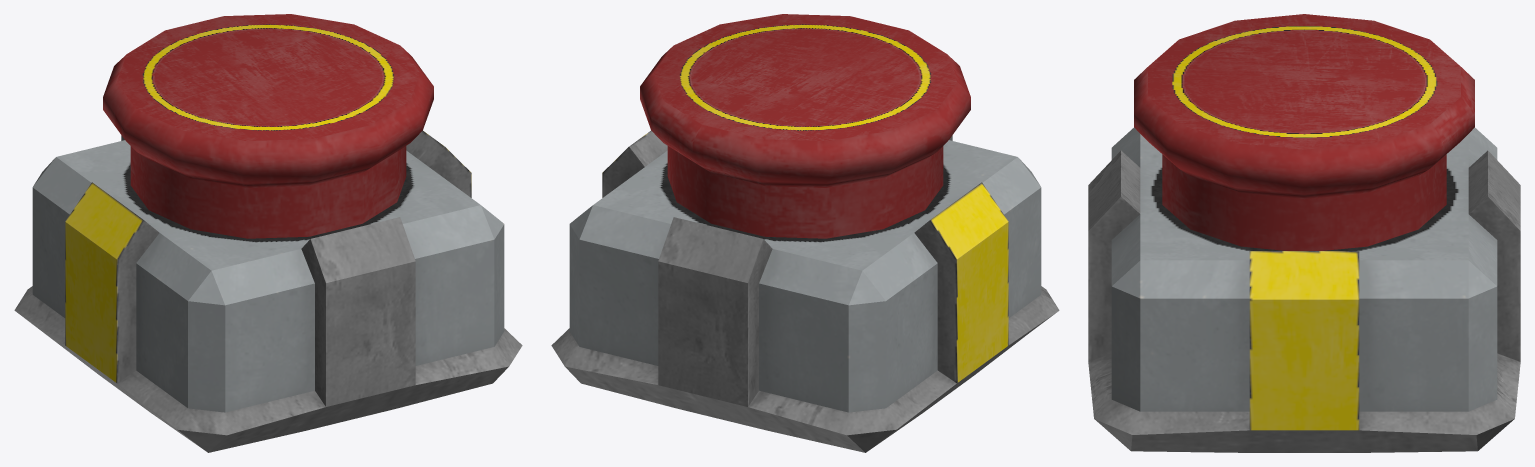
File: WW_button_prop.fbx
3 views of the same model, side by side, from view 1: azimuth 30°, elevation 25°; view 2: azimuth 150°, elevation 25°; view 3: azimuth 270°, elevation 25° (orthographic). The views are drawn at different scales.
Parts seen in each view (by area): view 1: button_housing_geo, button_geo; view 2: button_housing_geo, button_geo; view 3: button_housing_geo, button_geo.
Boxes of the visible parts, x1,y1,x2,y2 form: button_housing_geo: (14,130,522,452); button_geo: (103,14,433,238); button_housing_geo: (551,130,1059,452); button_geo: (640,14,970,238); button_housing_geo: (1088,127,1520,452); button_geo: (1134,14,1474,250).
Bounding box in the file's own units: 4.29 × 3.27 × 4.29.
